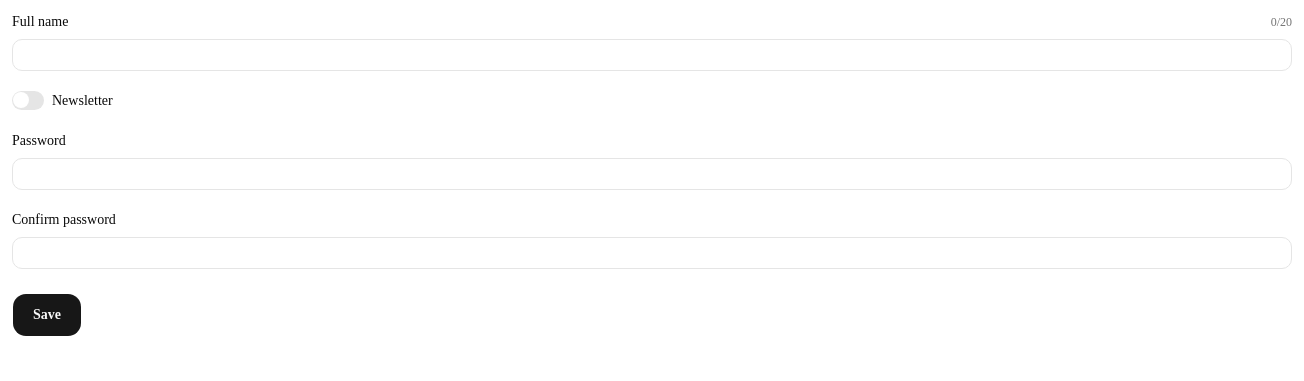
it: SchemaForm › validates with the Zod schema, refinements included
The image size is (1304, 381).
Type "Magda" into the field labelled "Full name". click: (652, 55)
box: [12,39,1292,71]
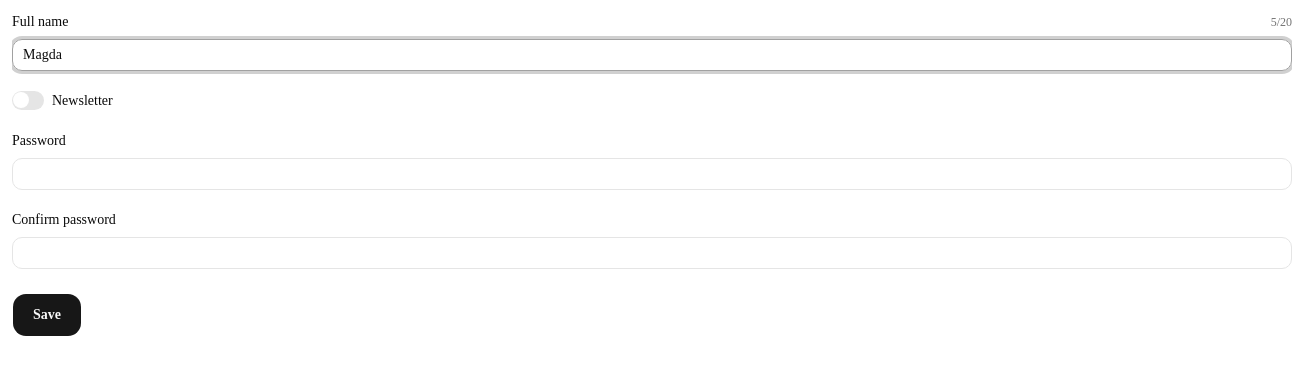
Type "secret" into the password field labelled "Password". click: (652, 174)
box: [12,158,1292,190]
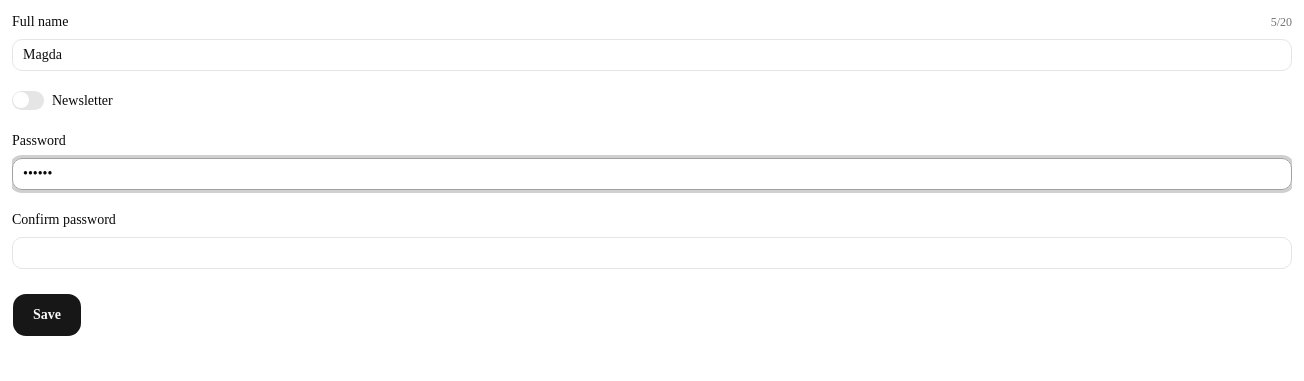
Type "other" into the password field labelled "Confirm password". click: (652, 253)
box: [12,237,1292,269]
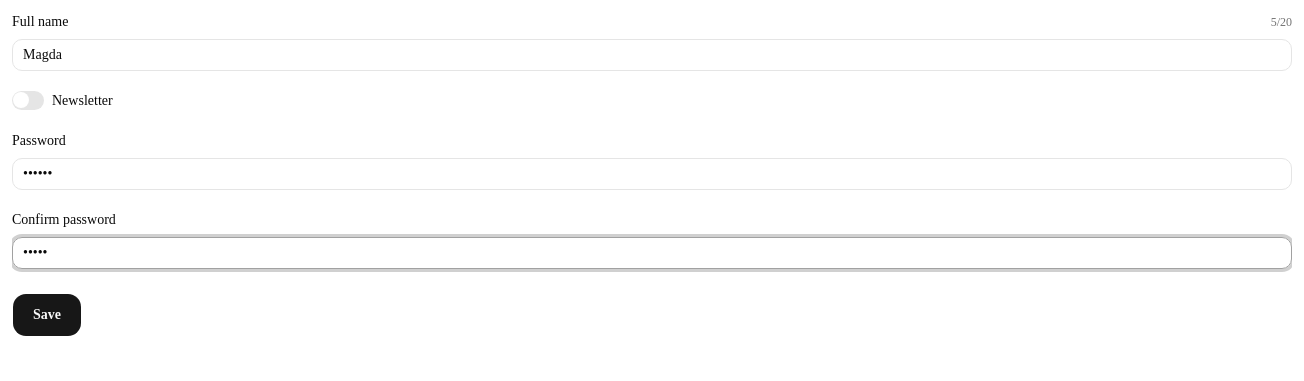
Click the button "Save". click: (47, 315)
box: [12,293,82,337]
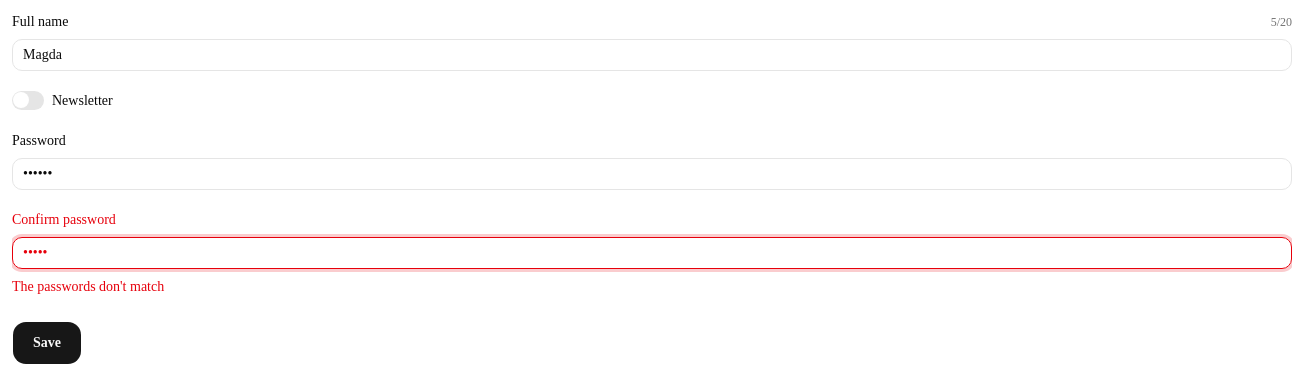
Expected: the text "The passwords don't match" is shown, [12,279,164,294]
